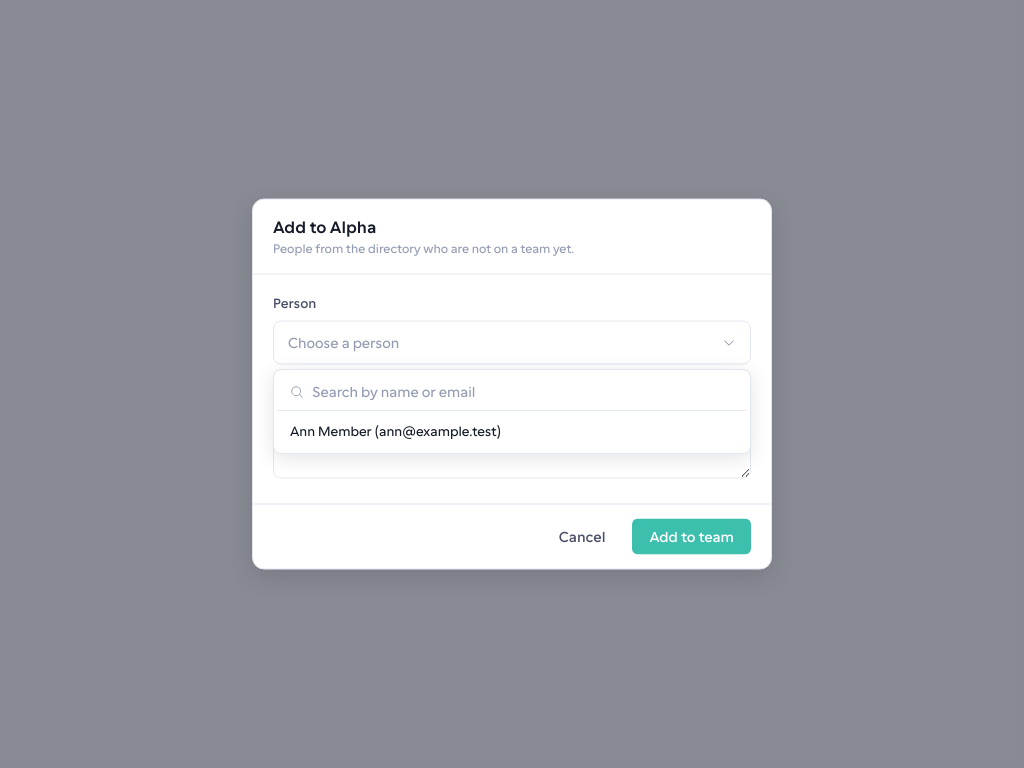
Test: AddMemberDialog › shows the server message when the add fails
The width and height of the screenshot is (1024, 768).
Click the option "Ann Member (ann@example.test)": x=396, y=432 [290, 424, 501, 439]
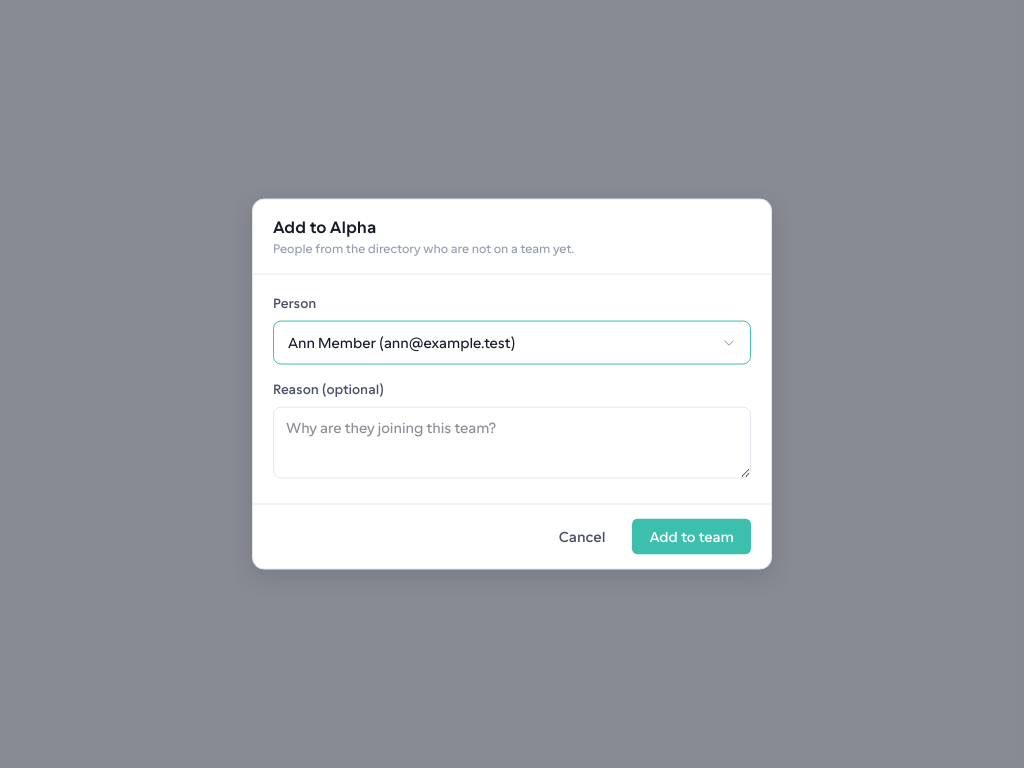
Click the button "Add to team": x=692, y=536 [632, 518, 751, 554]
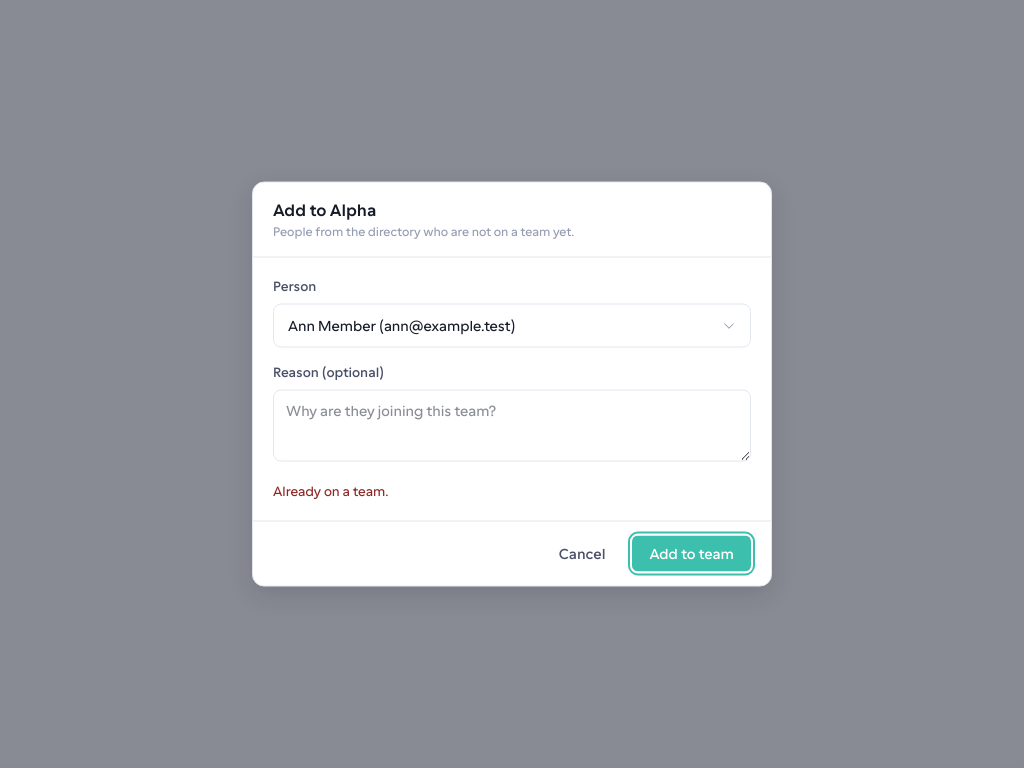
Expected: the message reads "Already on a team.", [273, 484, 389, 498]
